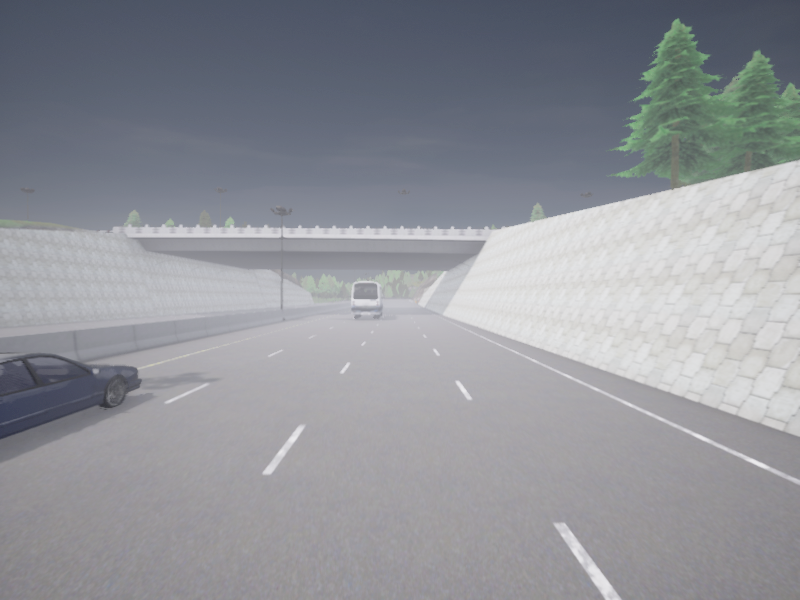vehicle: (0, 353, 141, 439), (351, 282, 384, 317)
